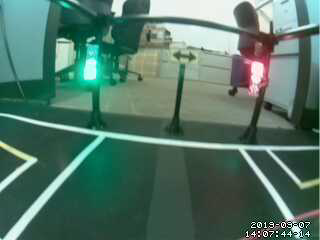Left_Right_sign: (170, 45, 204, 65)
Traffic_light_green: (83, 45, 97, 79)
Traffic_light_red: (245, 60, 267, 104)
